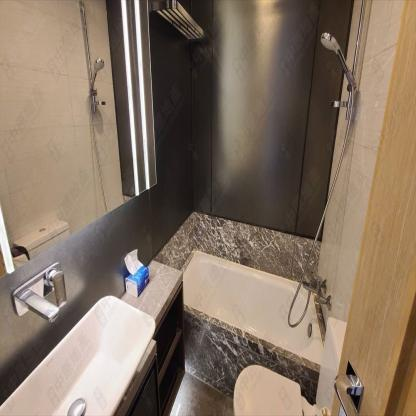Bathtub: (181, 249, 322, 366)
Faucet: (10, 262, 69, 319)
Toilet: (234, 315, 346, 415)
Toilet Sink: (1, 296, 156, 415)
